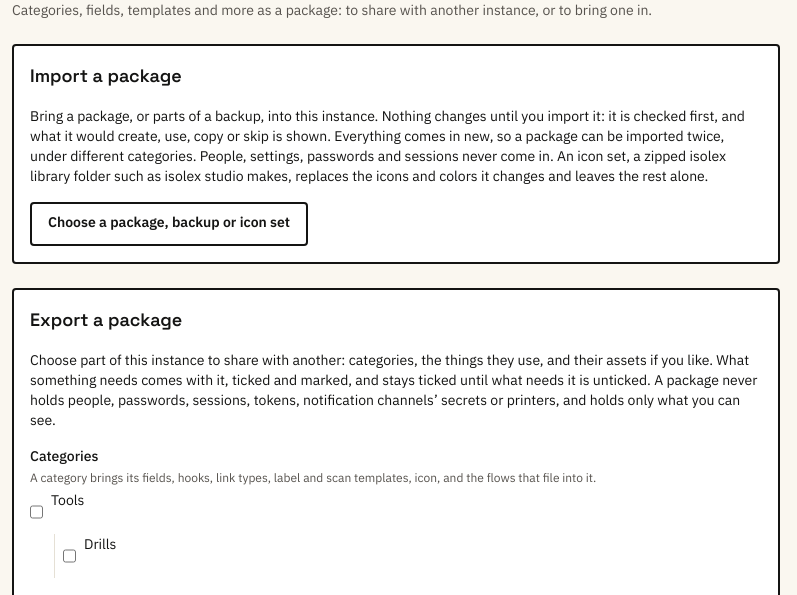
Test case: PackagesPage › ticks a category with those under it, and marks what it needs
Click the checkbox labelled "Tools".
click(36, 512)  # box x1=30 y1=490 x2=43 y2=534
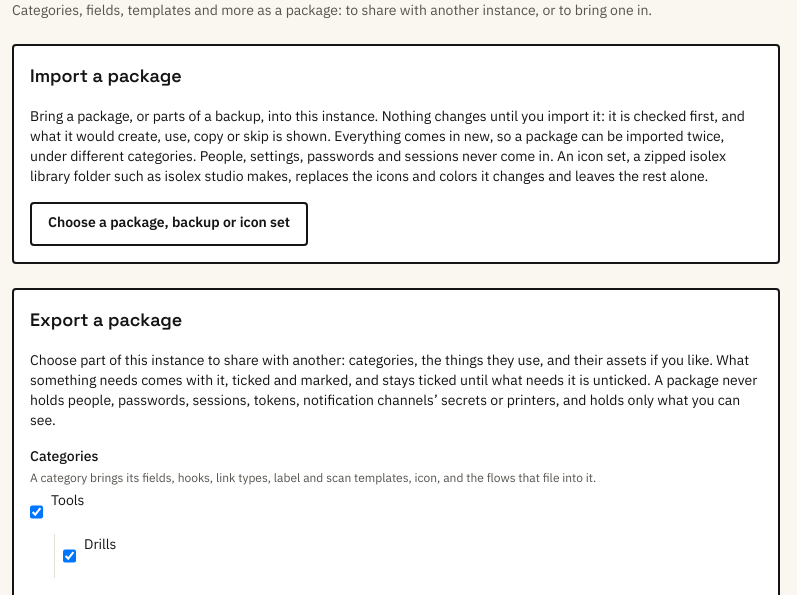
Result: the checkbox labelled "Drills" is checked
unticking Drills leaves Tools neither ticked nor not
Click the checkbox labelled "Drills".
click(70, 556)  # box x1=63 y1=534 x2=76 y2=578
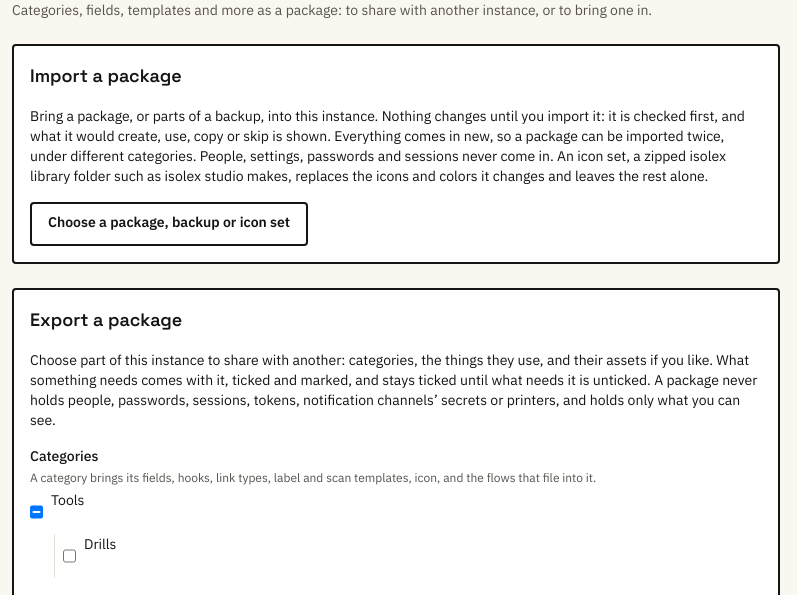
Click the checkbox labelled "Tools".
click(36, 512)  # box x1=30 y1=490 x2=43 y2=534
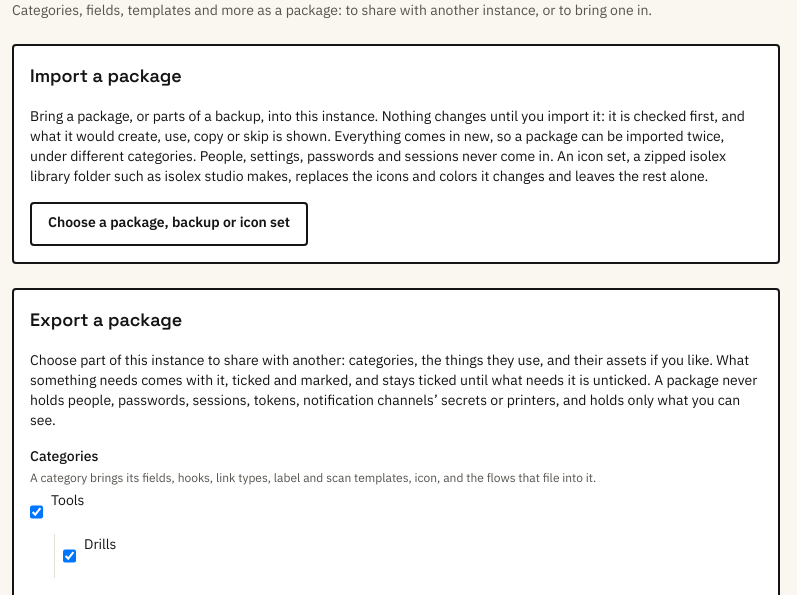
Click the checkbox labelled "Tools".
click(36, 512)  # box x1=30 y1=490 x2=43 y2=534
(page scrolled)
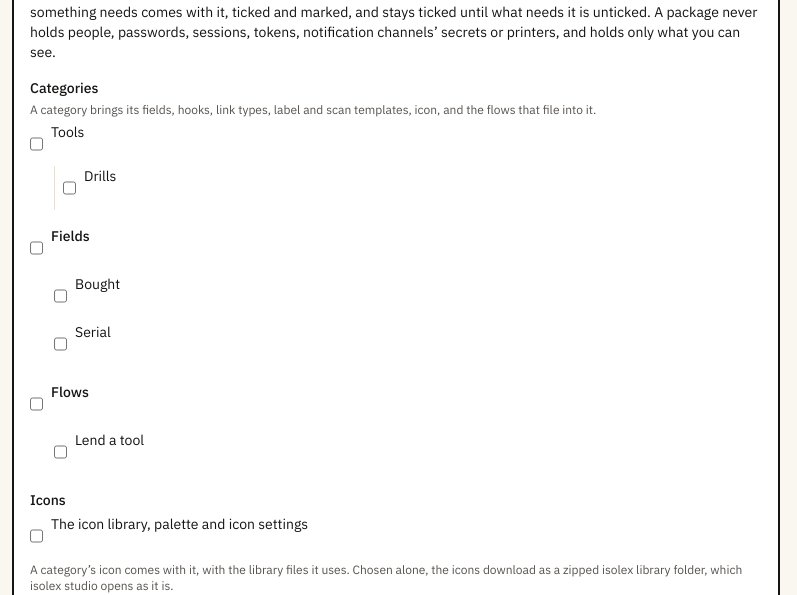
Result: the checkbox labelled "Serial" is enabled at x1=54 y1=322 x2=67 y2=366
